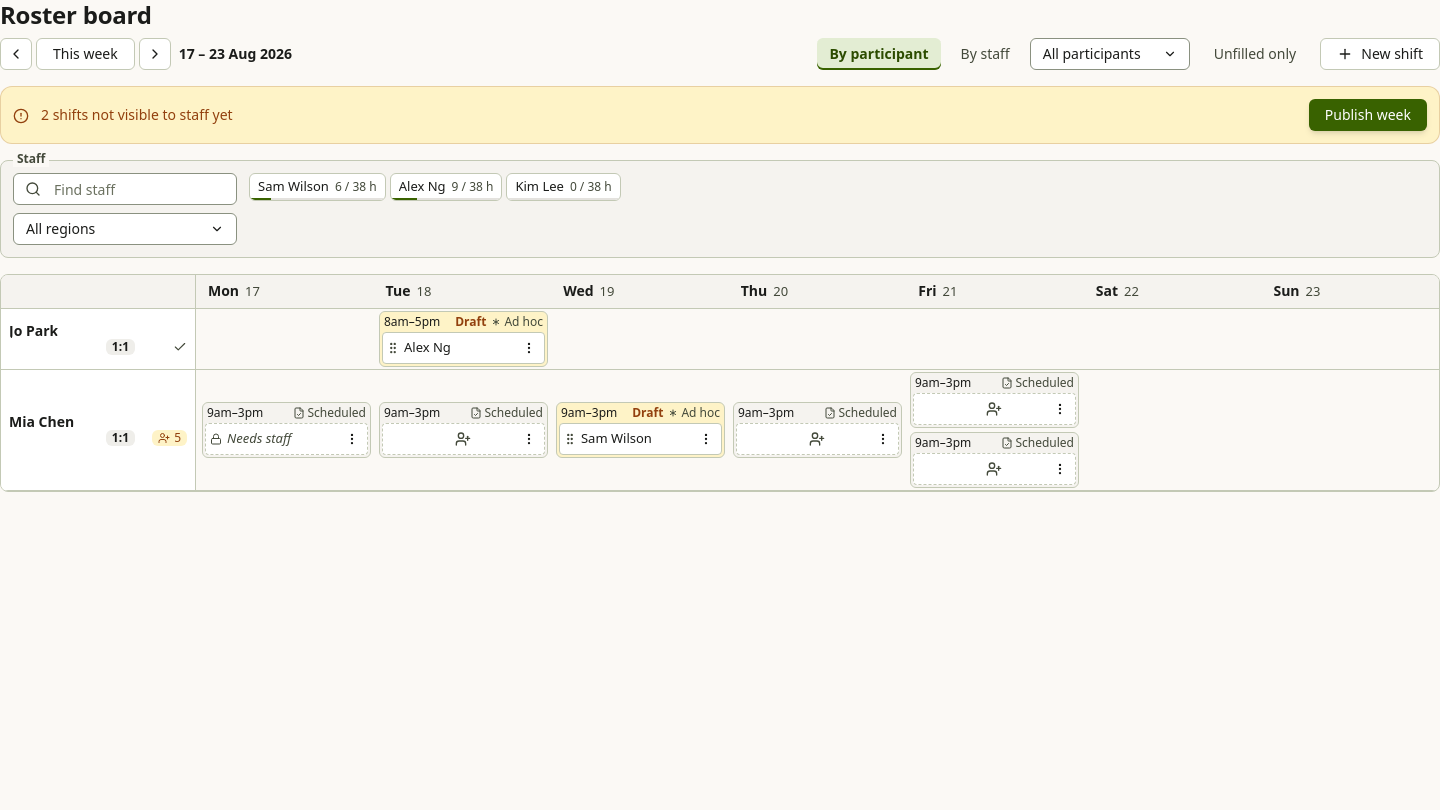
Scenario: RosterBoardPage: the plus opens the staff picker › opens the same picker from an unfilled chip's Assign to…
Click the 3rd button named "Actions for" at (529, 438), box [517, 426, 541, 450]
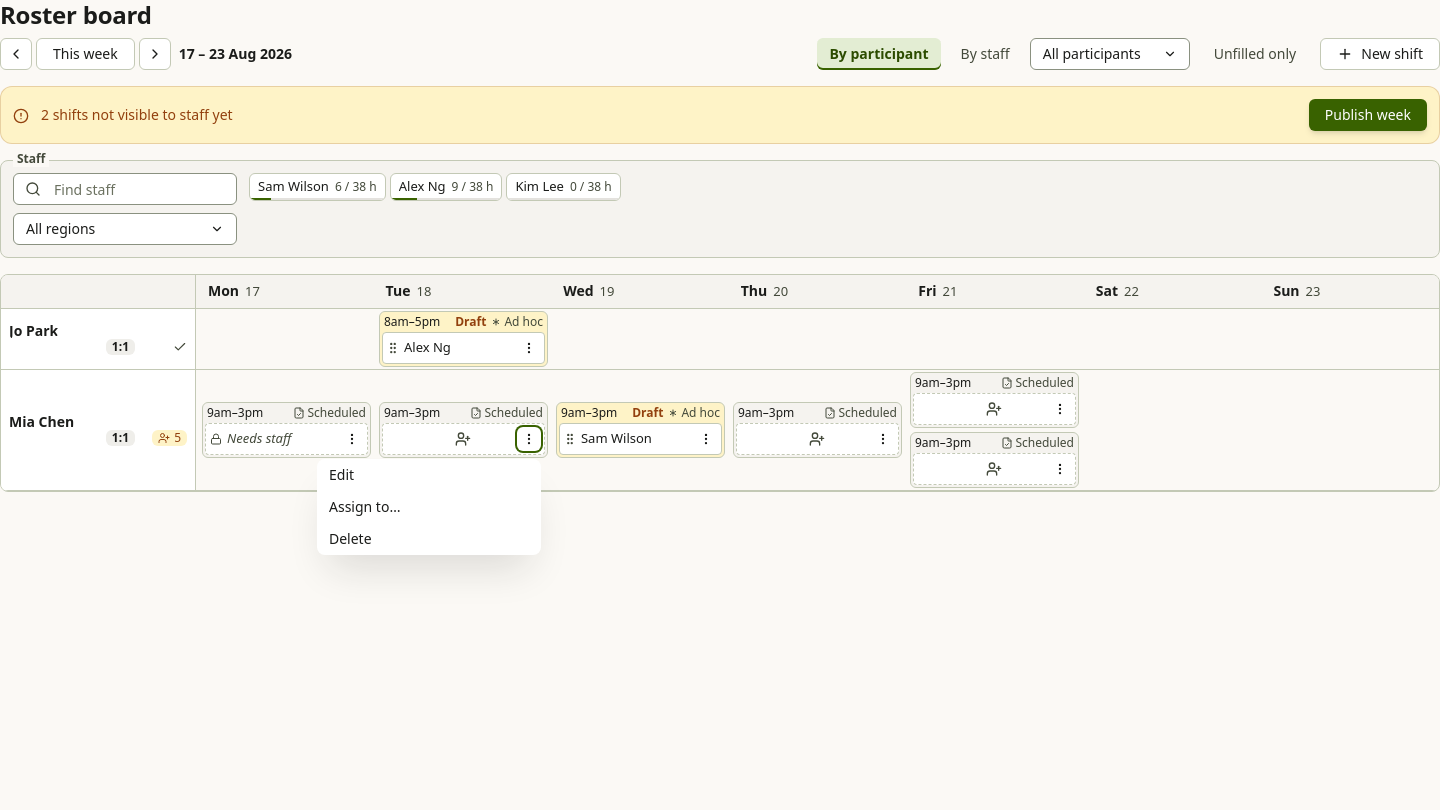
Click the option "Assign to…" at (365, 506), box [329, 496, 400, 516]
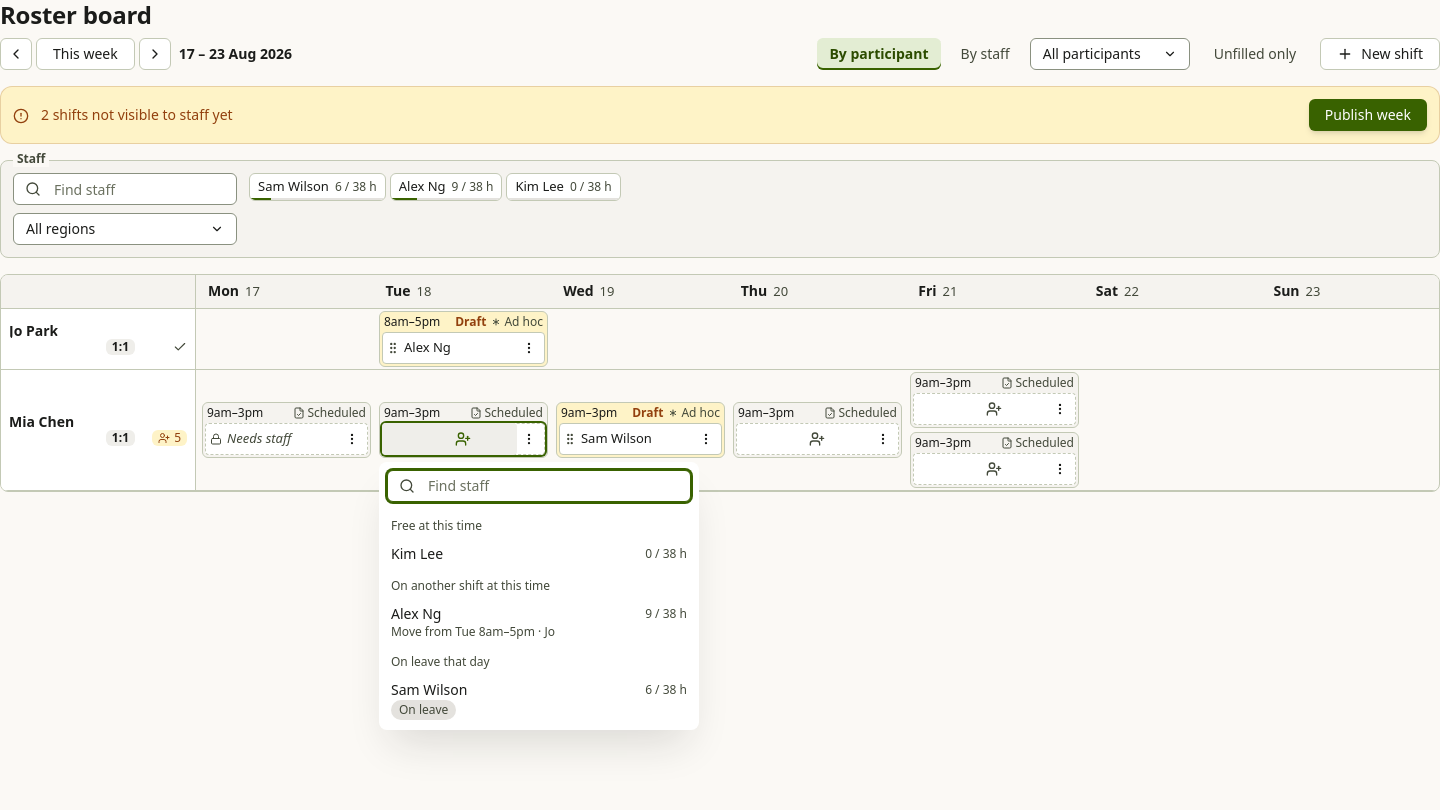
Check: the dialog named "Assign someone to Tuesday 9am to 3pm for Mia" is shown, box [379, 462, 699, 730]
